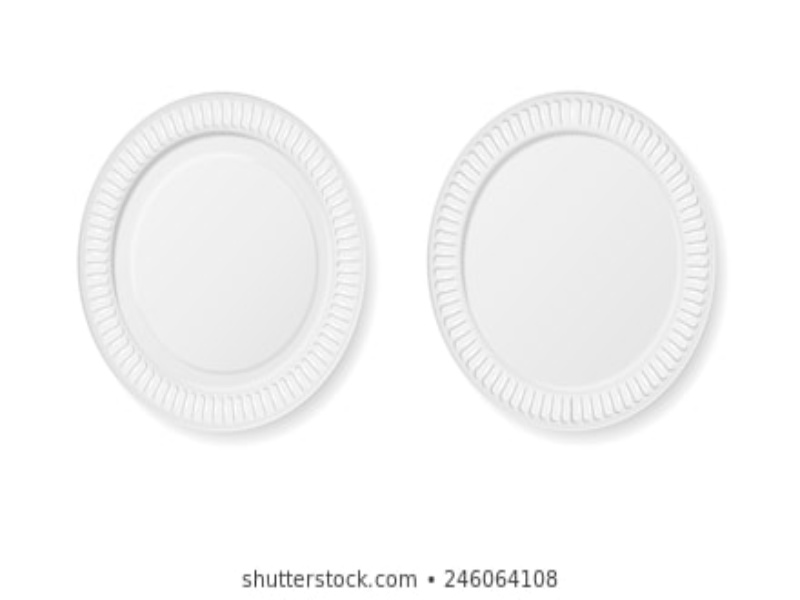plastic-plate: (424, 90, 726, 436), (76, 90, 375, 437)
